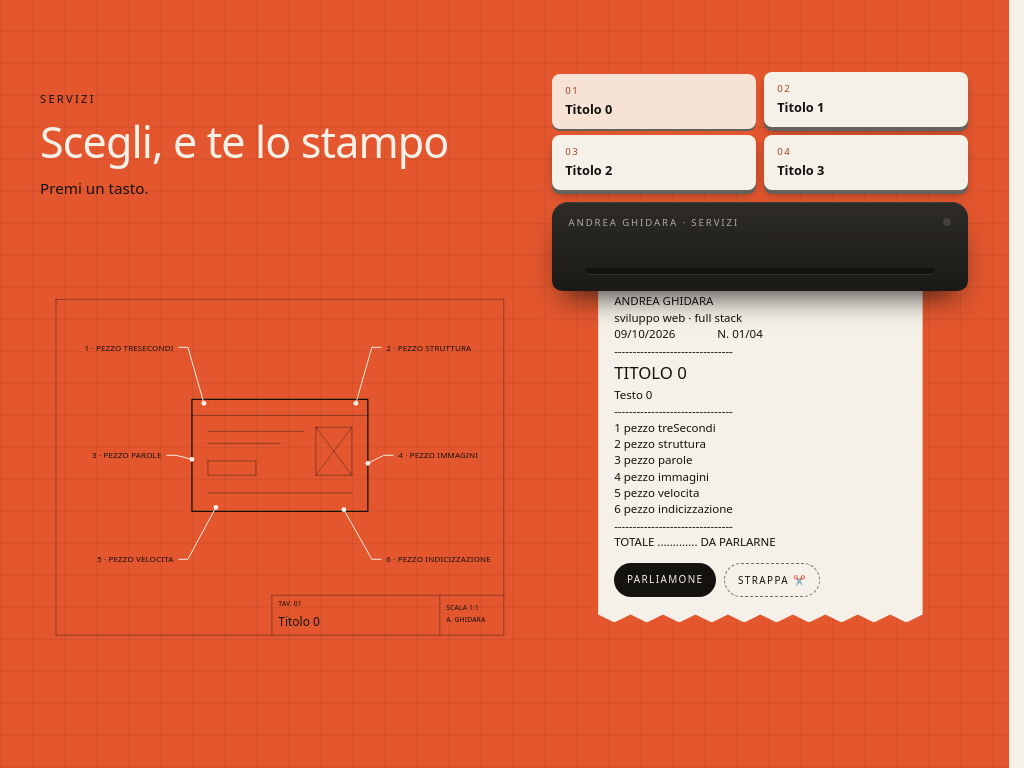
la stampante dei servizi › un tasto stampa il suo servizio e ridisegna la tavola
The width and height of the screenshot is (1024, 768).
Click the button "03 Titolo 2": (654, 163) [552, 135, 756, 190]
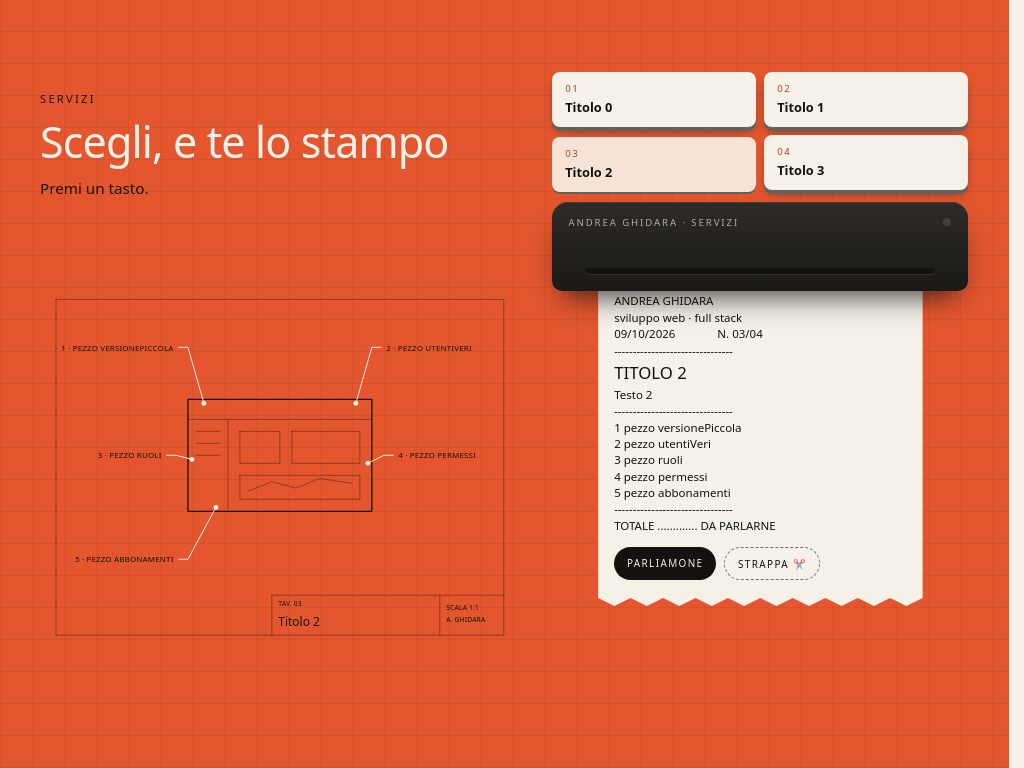
Check: the element that starts with "ANDREA GHIDARA" shows "TITOLO 2", box [614, 361, 687, 384]
Check: the picture named "Schema 2" is shown, box [40, 199, 520, 736]
